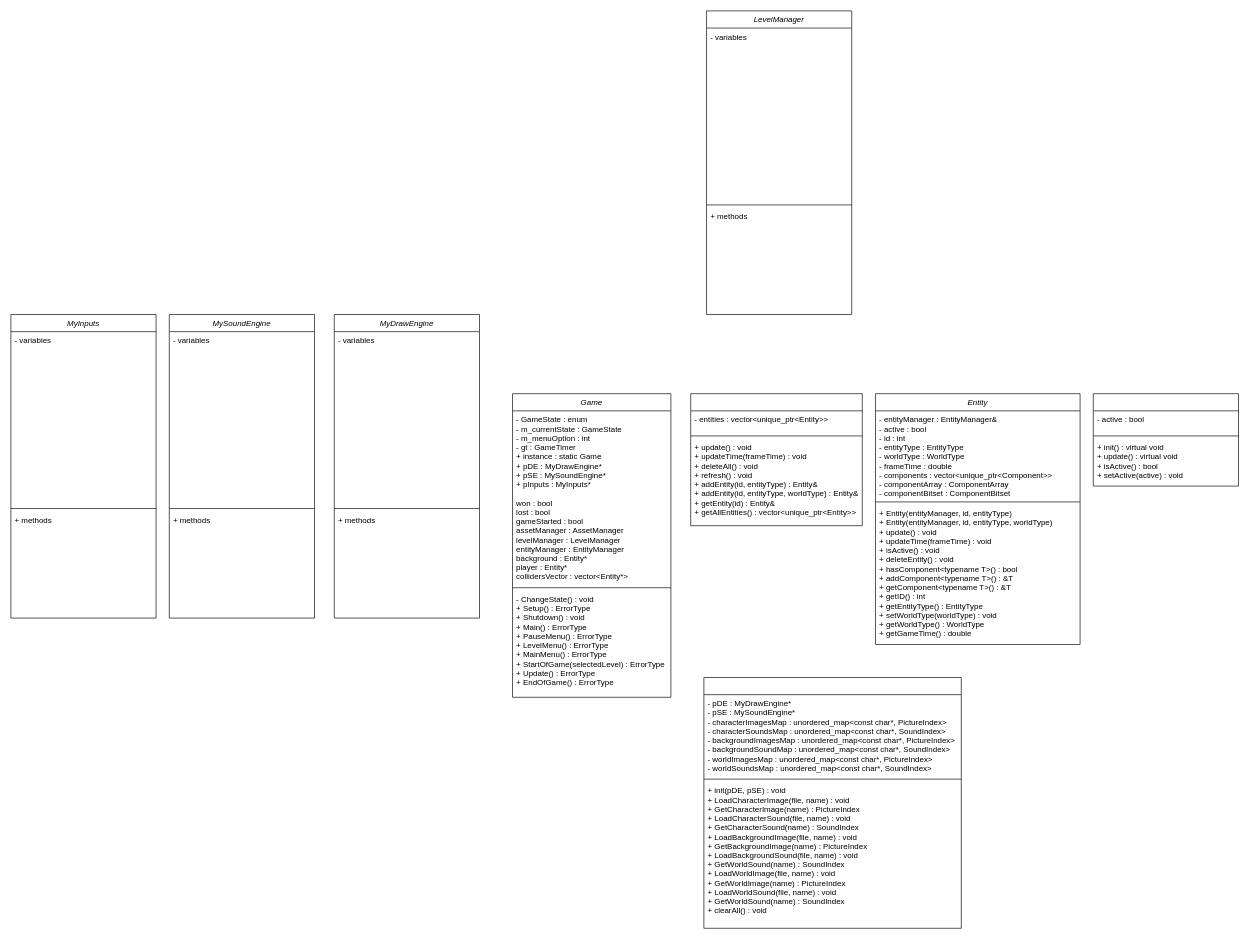
The diagram is 1249 pixels wide and 939 high, and some of its shapes have lost their labels. Here are the shapes that lost their labels. From the top down, the box of each, then its label:
(690, 393, 862, 526): EntityManager
(1093, 393, 1238, 486): Component
(703, 677, 961, 928): AssetManager
